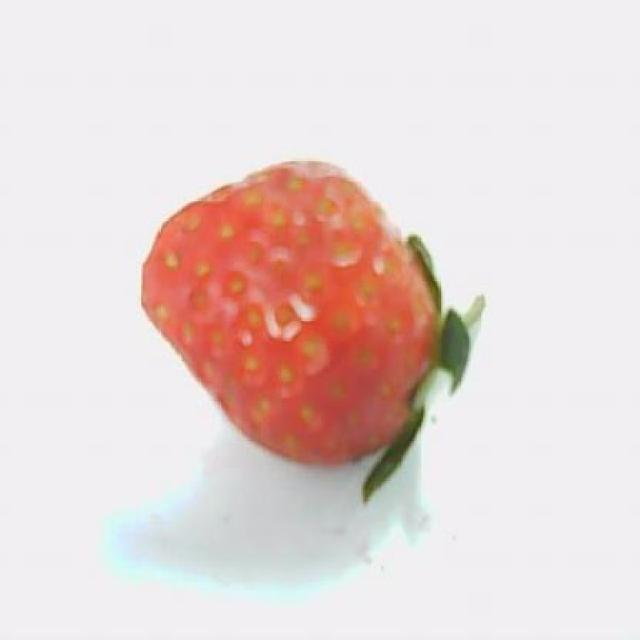strawberry: (141, 161, 485, 502)
